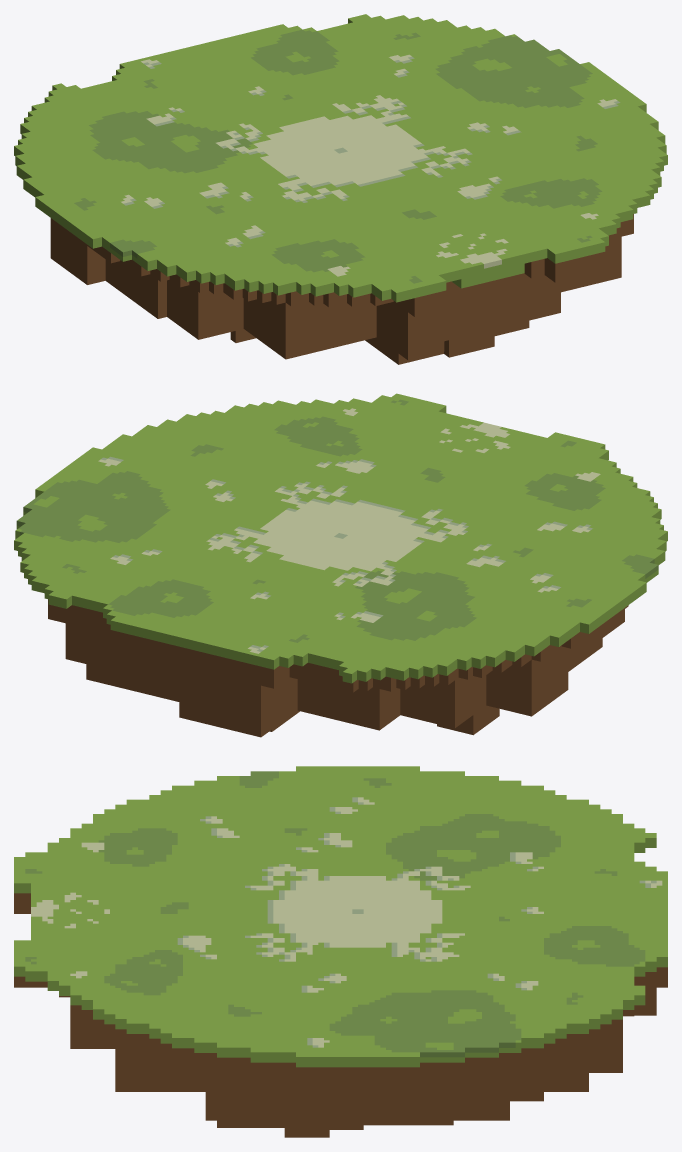
File: ground-01-18-v07.obj
3 views of the same model, one above another, from view 1: azimuth 30°, elevation 25°; view 2: azimuth 150°, elevation 25°; view 3: azimuth 270°, elevation 25° (orthographic). The views are drawn at different scales.
Bounding box in the file's own units: 12.2 × 2.6 × 11.6.
1 material, 1 textured.
